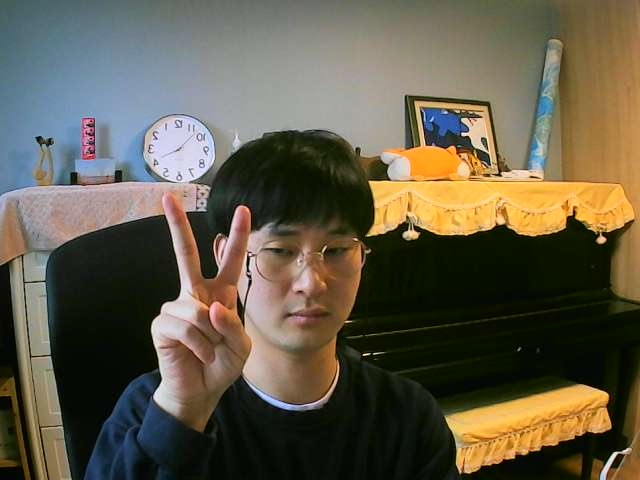two: (112, 177, 281, 418)
